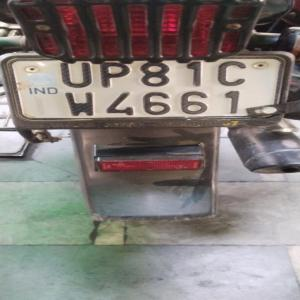Plate: (14, 58, 285, 120)
